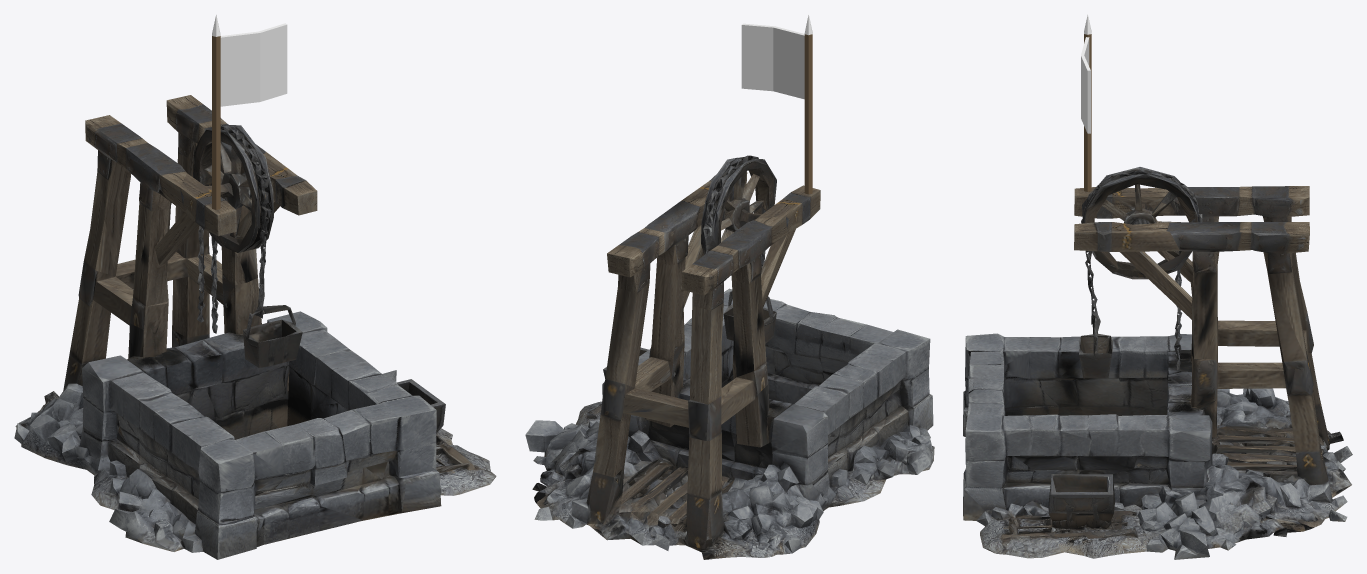
3 views of the same model, side by side, from view 1: azimuth 30°, elevation 25°; view 2: azimuth 150°, elevation 25°; view 3: azimuth 270°, elevation 25° (orthographic). The views are drawn at different scales.
Visible parts, largest first — view 1: ironhold_deep_mine, Team_banner; view 2: ironhold_deep_mine, Team_banner; view 3: ironhold_deep_mine, Team_banner.
Boxes of the visible parts, left/top/right/bottom form: ironhold_deep_mine: left=14, top=95, right=496, bottom=559; Team_banner: left=212, top=15, right=287, bottom=209; ironhold_deep_mine: left=525, top=155, right=934, bottom=559; Team_banner: left=741, top=15, right=812, bottom=194; ironhold_deep_mine: left=963, top=167, right=1352, bottom=559; Team_banner: left=1081, top=14, right=1091, bottom=191.
Bounding box in the file's own units: 1.82 × 2.36 × 1.9.
3 materials, 1 textured.
